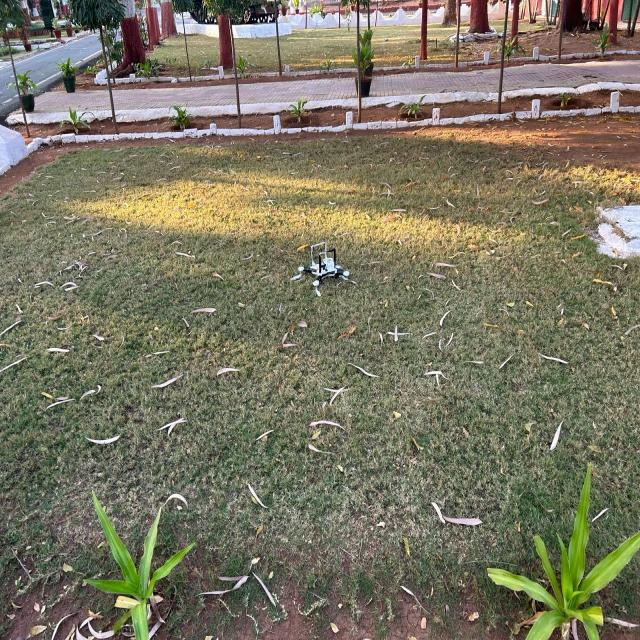drone: (274, 223, 377, 309)
